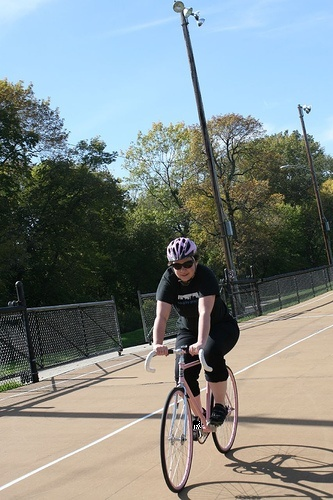car: (146, 348, 240, 495)
person: (153, 238, 241, 440)
person/foot: (191, 407, 207, 440), (212, 403, 227, 426)
person/hand: (189, 343, 209, 357), (153, 344, 170, 357)
person/head: (167, 238, 201, 283)
